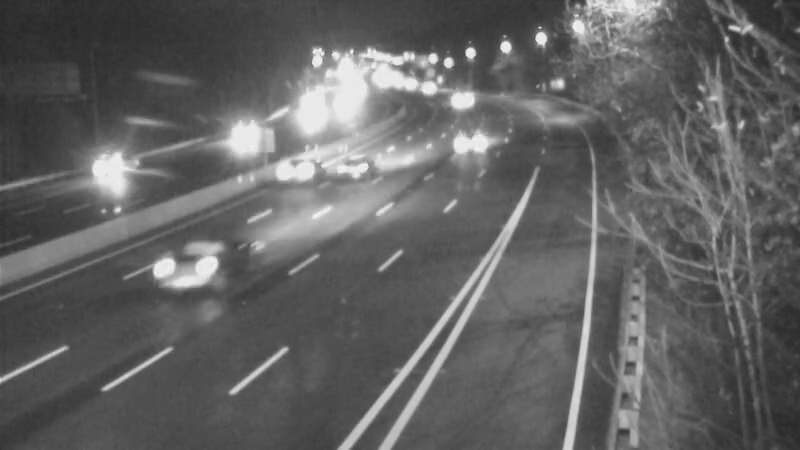vehicle: (314, 121, 394, 201), (256, 132, 336, 212), (146, 231, 226, 311), (71, 133, 151, 213), (435, 76, 485, 126), (448, 123, 498, 173), (217, 113, 267, 163)
